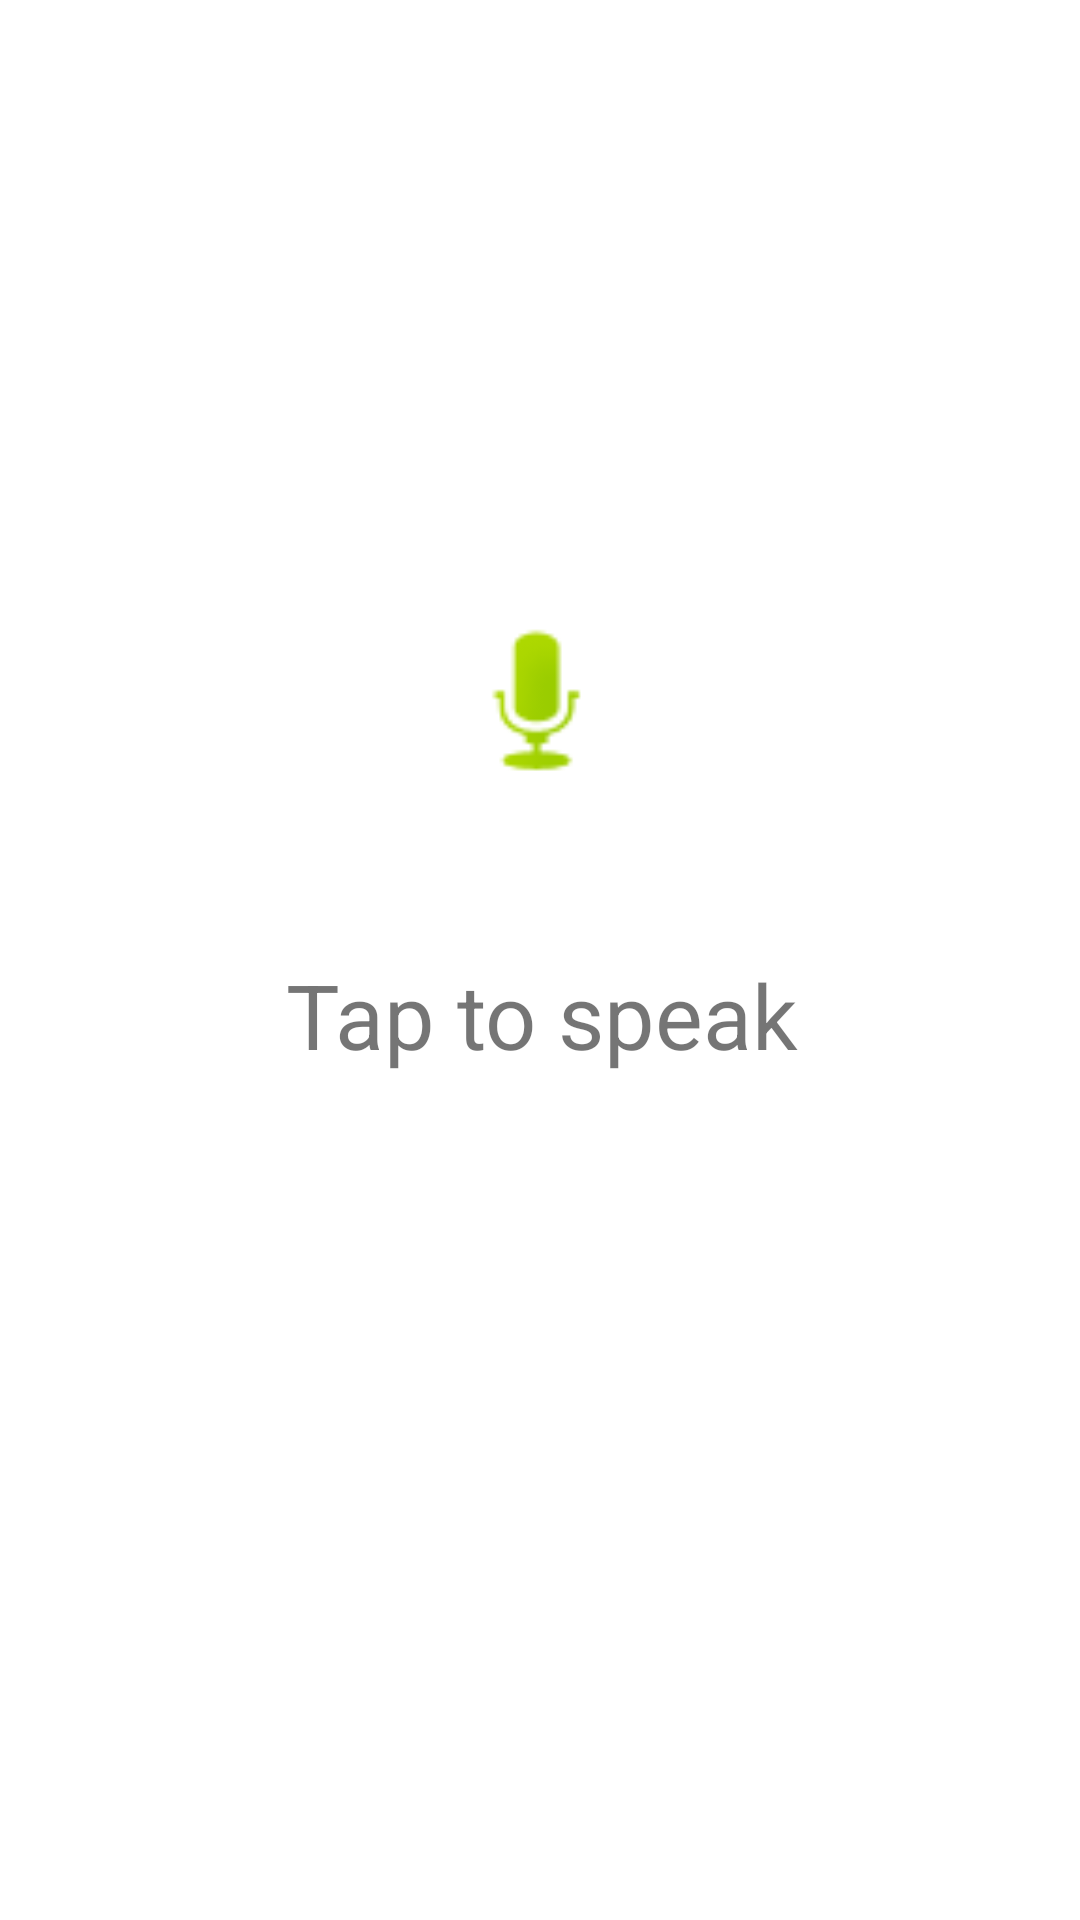

Screen size 1080×1920. Icon name, then its box in pixels as BBox(x1, y1, x2, y2):
presence audio online: BBox(492, 630, 581, 771)
